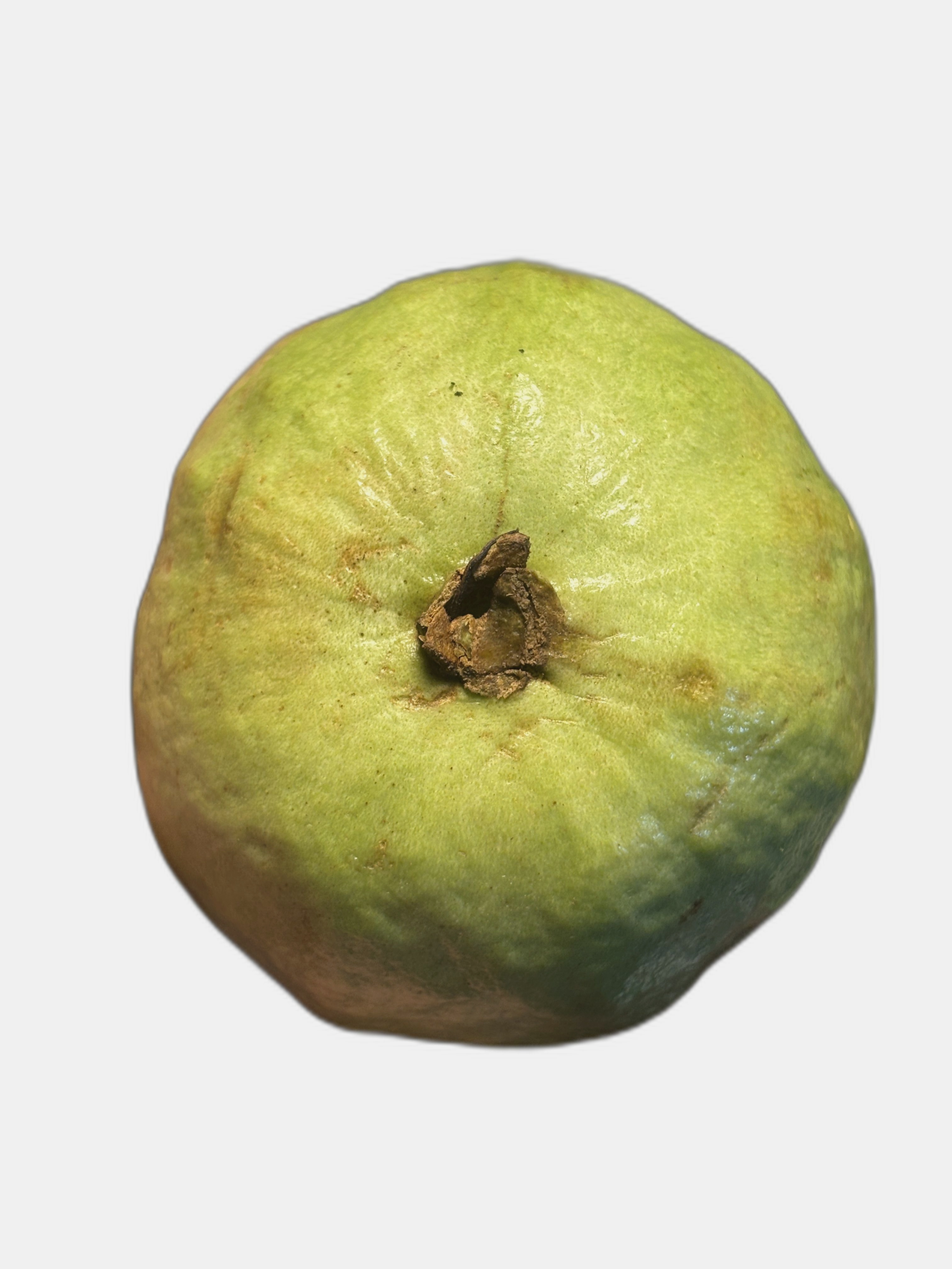guava: (20, 123, 819, 1223)
